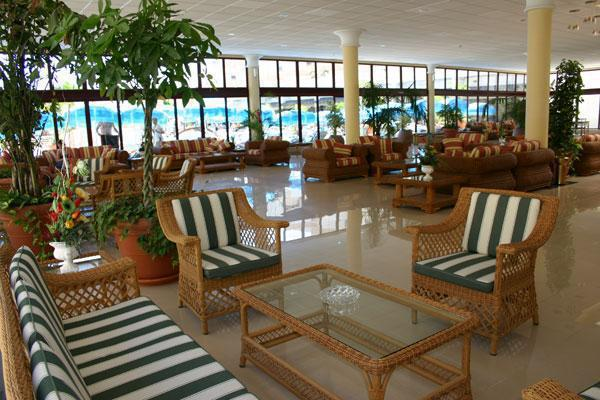Bote de Basura: (558, 158, 571, 187)
Matera: (93, 28, 178, 280), (8, 16, 67, 250), (555, 62, 579, 177)
